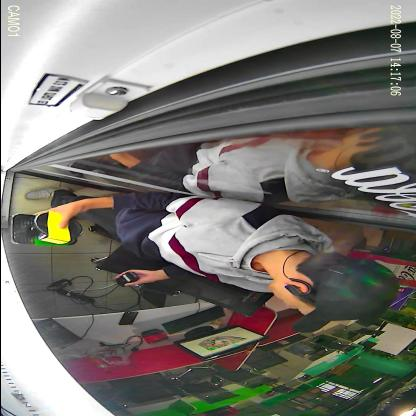green: (9, 214, 77, 246)
yellow: (32, 214, 76, 244)
